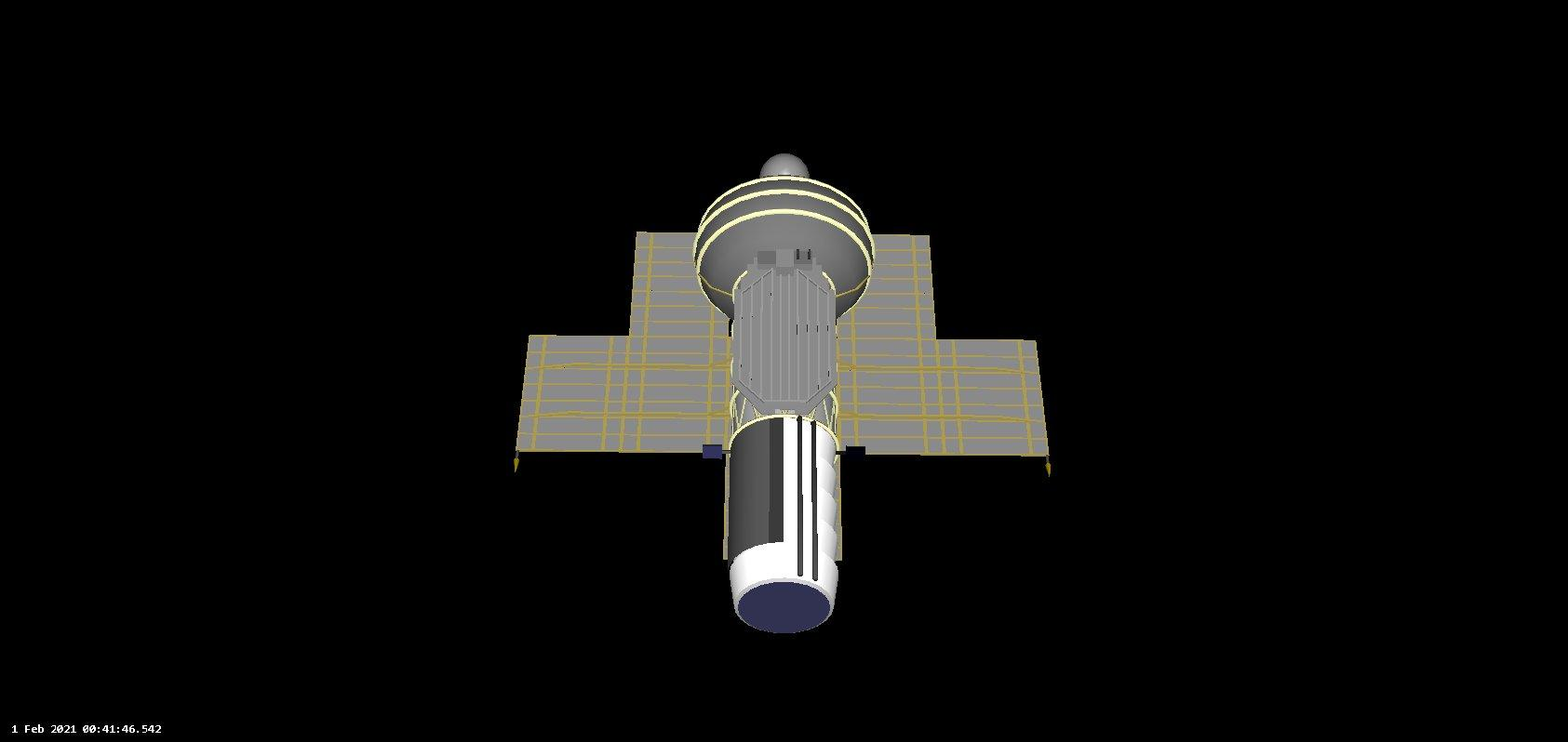body: (691, 149, 878, 636)
solar: (830, 232, 940, 459), (630, 228, 734, 461), (933, 335, 1055, 459), (515, 330, 628, 460)
